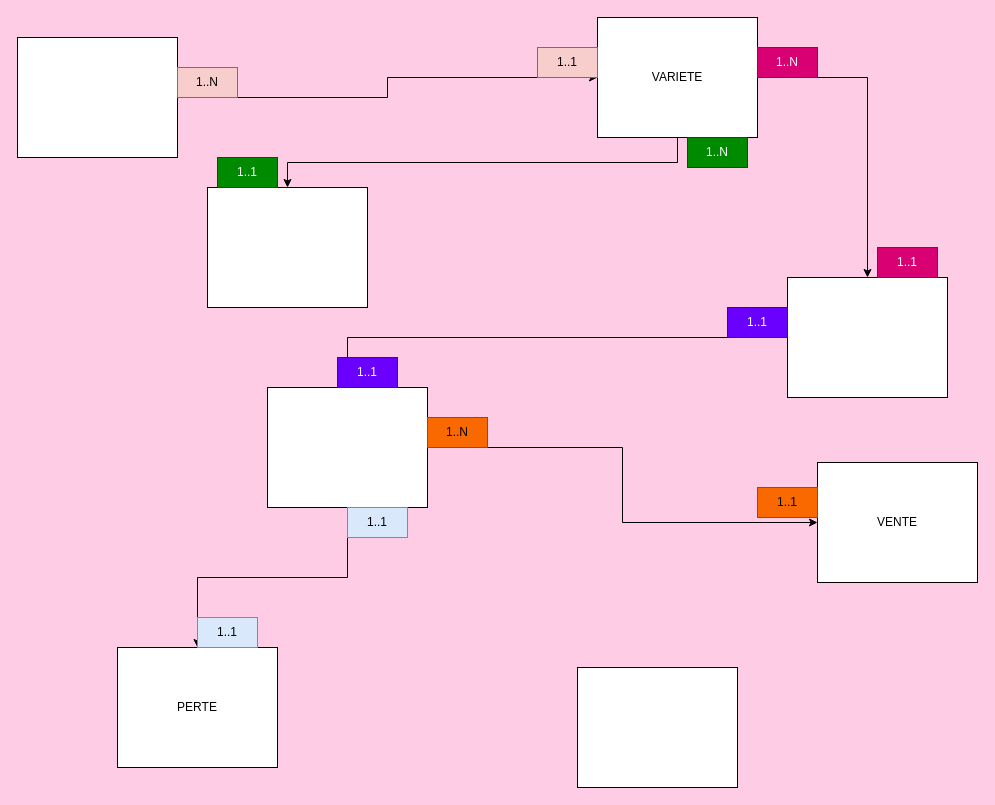
Some shapes in this 995 by 805 pixel diagram are drawn without their labels. The shapes that lost their labels are listed below. From the top down, each one's centre as x and y in pixels, then its label:
At (x=97, y=97): "PRODUITS".
At (x=287, y=247): "TARIF".
At (x=867, y=337): "RECOLTE".
At (x=347, y=447): "STOCK".
At (x=657, y=727): "RAPPORT-STATISTIQUE".
